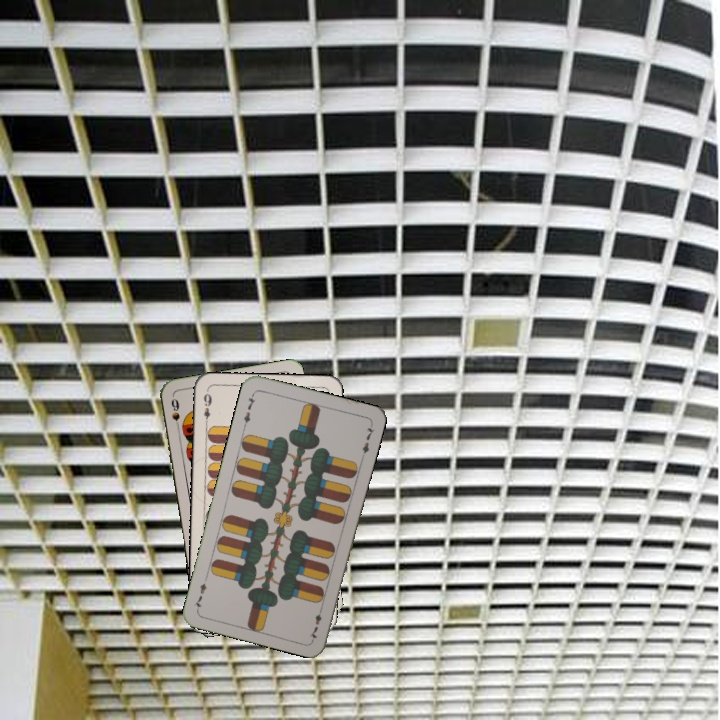E7: (239, 389, 258, 429), (306, 602, 325, 642)
E9: (199, 389, 214, 428)
S9: (167, 394, 182, 434)
